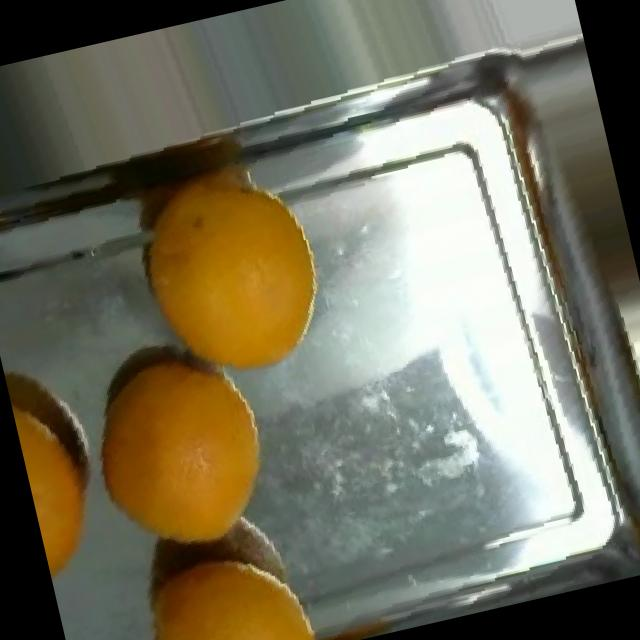Fruit: (108, 506, 327, 640)
